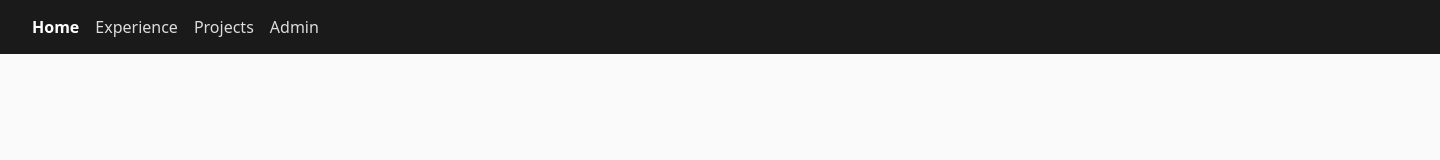
Test: navigation › links to every page and navigates without a reload
The width and height of the screenshot is (1440, 160).
Expected: the link "Home" is shown, [32,16,79,38]
Expected: the link "Experience" is shown, [95,16,178,38]
Step 1. Click the link "Projects" → (224, 27), box [194,16,254,38]
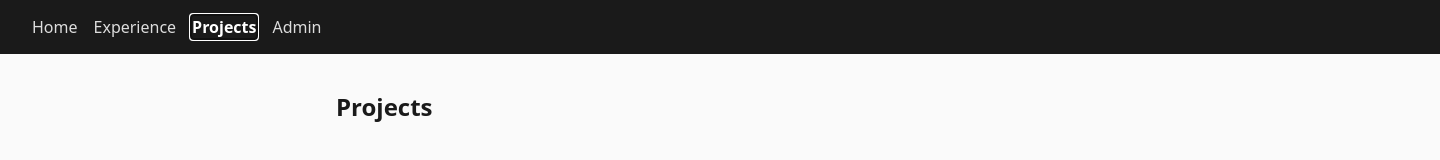
Now the heading "Projects" is shown, box [336,90,432,123]
